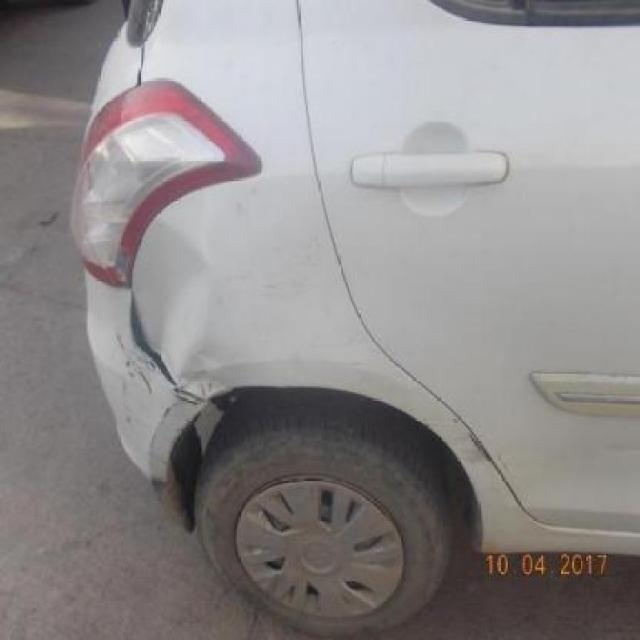damage: (134, 225, 217, 392), (144, 382, 212, 486), (129, 286, 180, 393), (448, 400, 503, 484), (114, 330, 155, 402), (119, 381, 134, 436)
